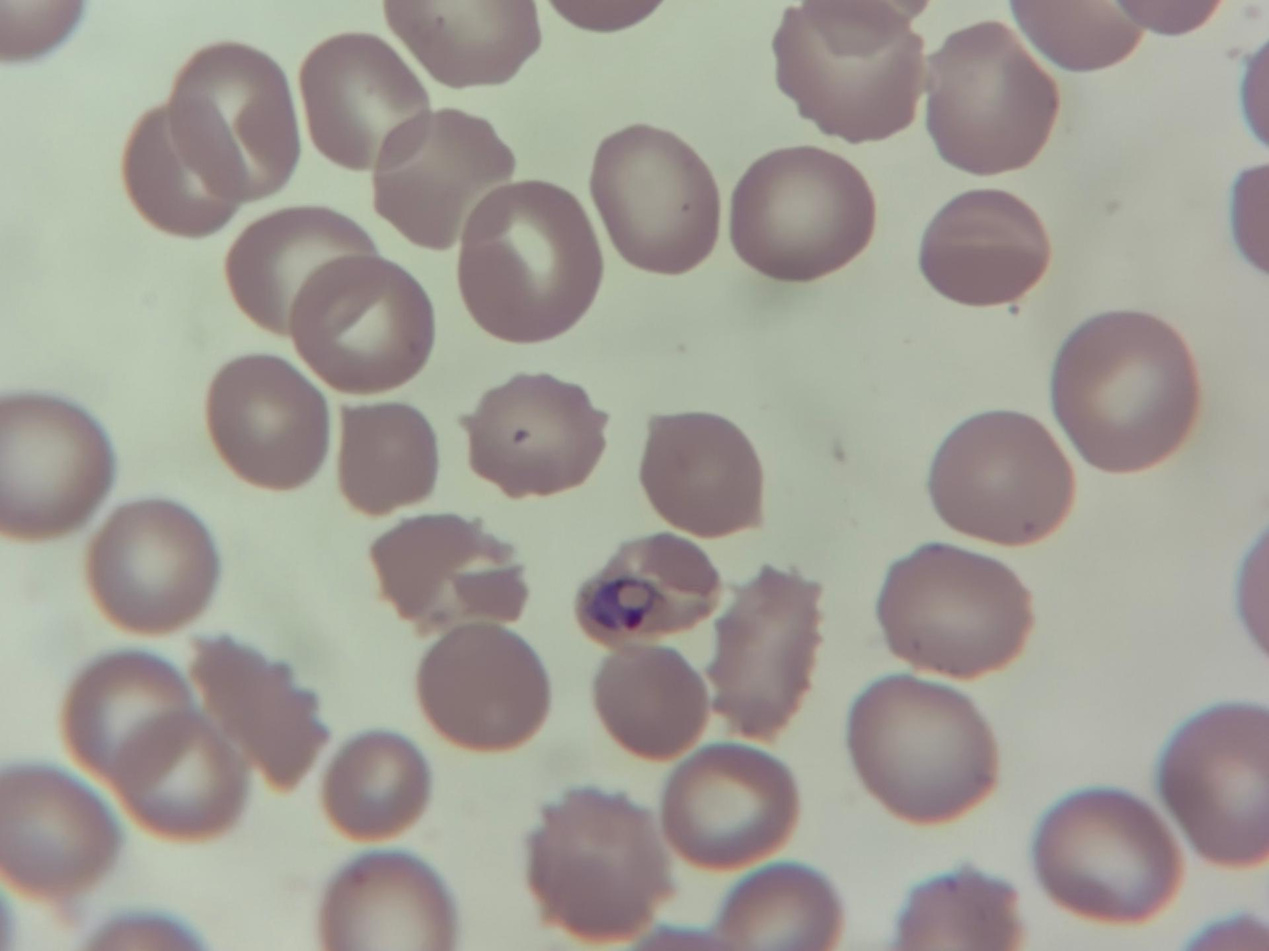Infected: (573, 532, 720, 649)
Uninfected: (174, 36, 310, 205), (764, 5, 925, 146), (1049, 316, 1193, 473), (185, 635, 332, 788), (458, 181, 604, 334), (518, 781, 664, 932), (370, 111, 524, 252), (925, 23, 1063, 174), (881, 538, 1030, 677), (284, 254, 430, 395), (731, 146, 877, 286), (848, 675, 993, 815), (930, 408, 1078, 545), (1035, 785, 1182, 916), (590, 124, 723, 268), (225, 212, 373, 339), (295, 32, 438, 161), (375, 512, 527, 633), (84, 499, 223, 631), (1163, 699, 1269, 863), (668, 734, 800, 862), (203, 355, 329, 486), (0, 750, 119, 888), (718, 562, 815, 731), (70, 648, 187, 787), (128, 98, 247, 234), (0, 397, 116, 534), (471, 375, 602, 495), (117, 719, 253, 834), (639, 415, 765, 539), (919, 186, 1049, 306), (425, 631, 543, 755), (597, 640, 715, 763), (317, 853, 458, 951), (328, 399, 432, 515), (330, 728, 438, 835)
